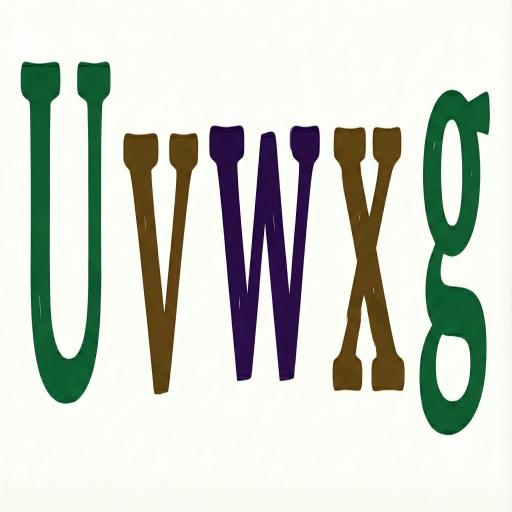U: (21, 43, 114, 406)
g: (416, 78, 493, 434)
v: (120, 110, 202, 414)
w: (208, 112, 322, 392)
x: (330, 110, 408, 403)
